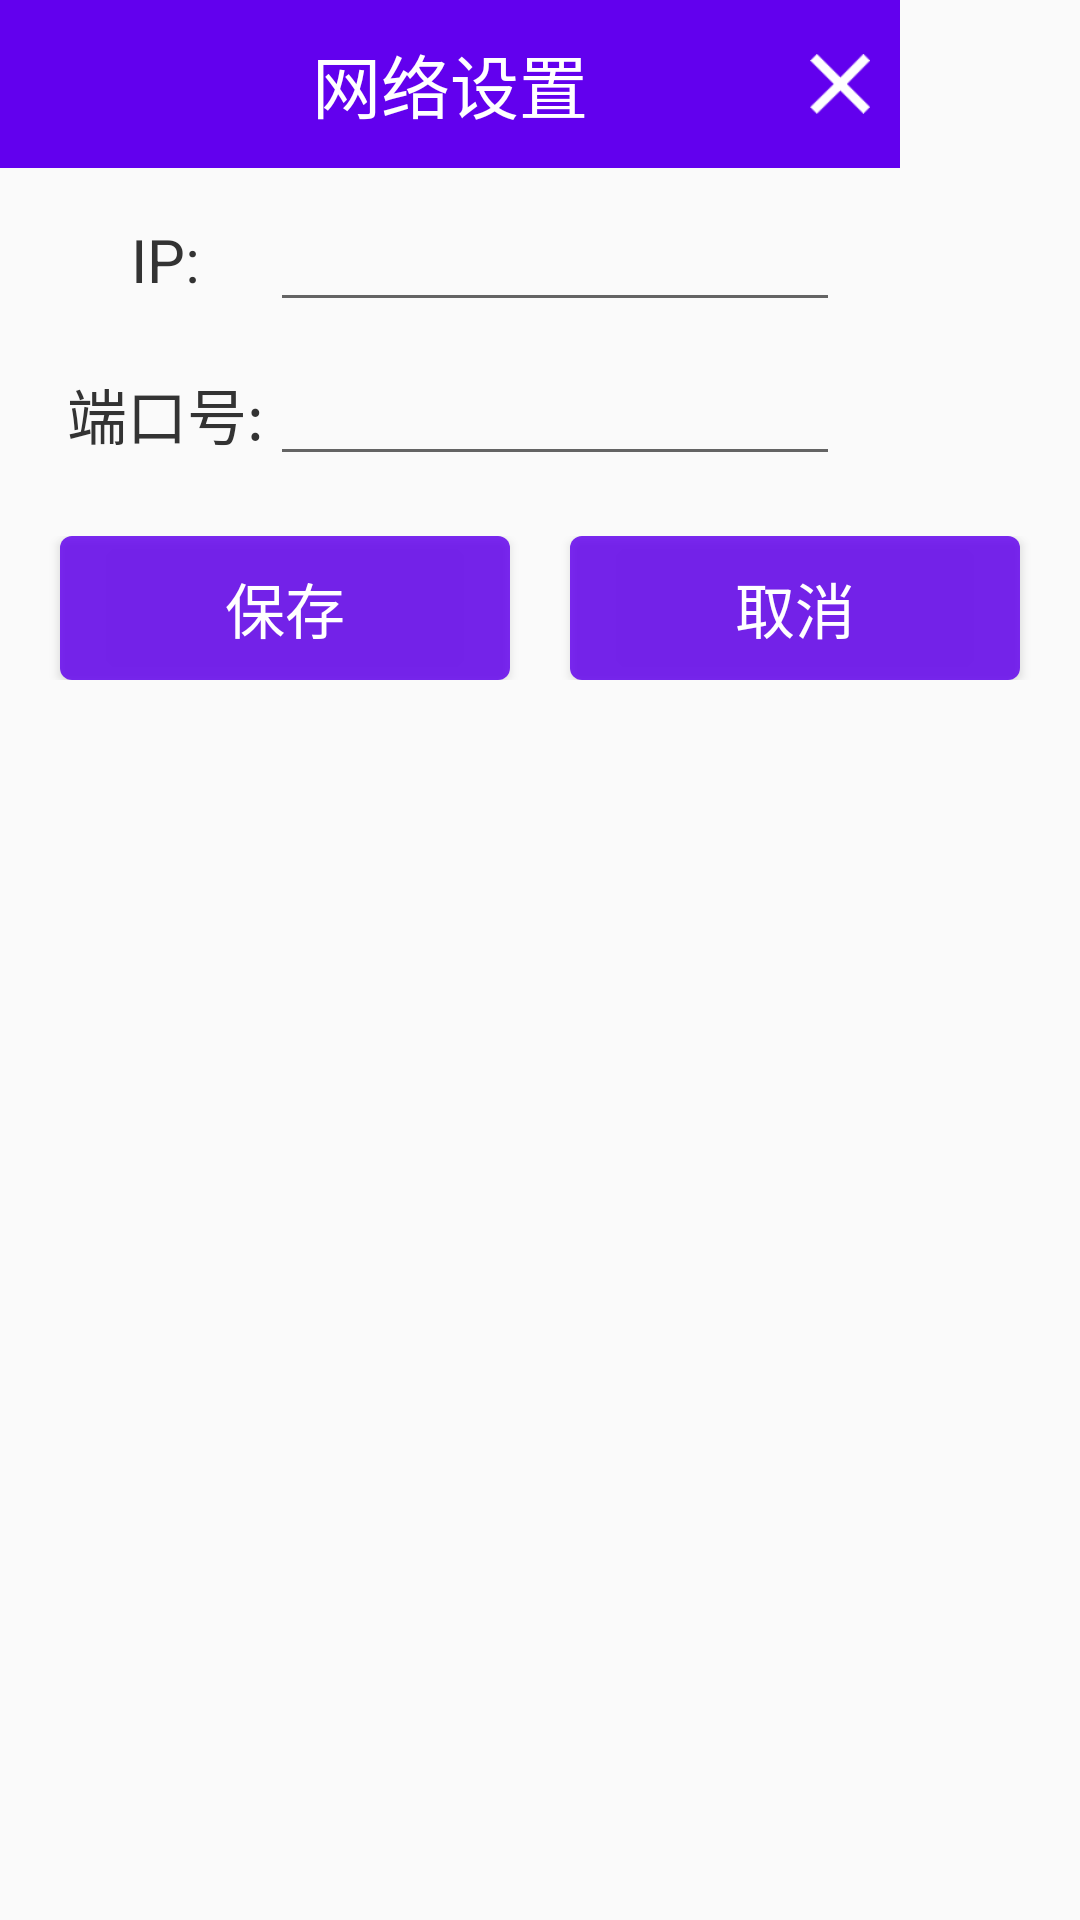

Icon bounding boxes for this 1080px x 1920px phone screenshot, format (x1, y1, x2, y2):
close: (810, 54, 870, 114)
